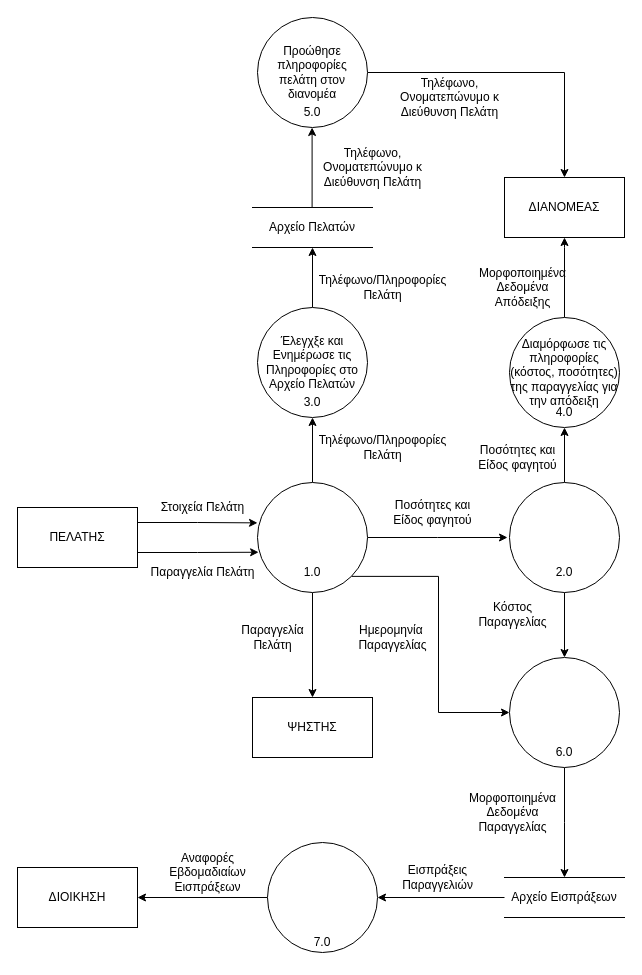
This 642x975 diagram has some shape labels left out. Each missing label, with the box of its shape:
Ενημέρωσε Αρχείο Εισπράξεων Παραγγελιών: (508, 656, 620, 768)
Πάρε την κλήση, έλεγξε τα στοιχεία και κατέγραψε την παραγγελια: (256, 482, 368, 592)
Παρήγαγε Αναφορές Εβδομαδιαίων Εισπράξεων για Διοίκηση: (266, 842, 378, 952)
Υπολόγισε το Κόστος Παραγγελίας: (508, 482, 620, 592)
